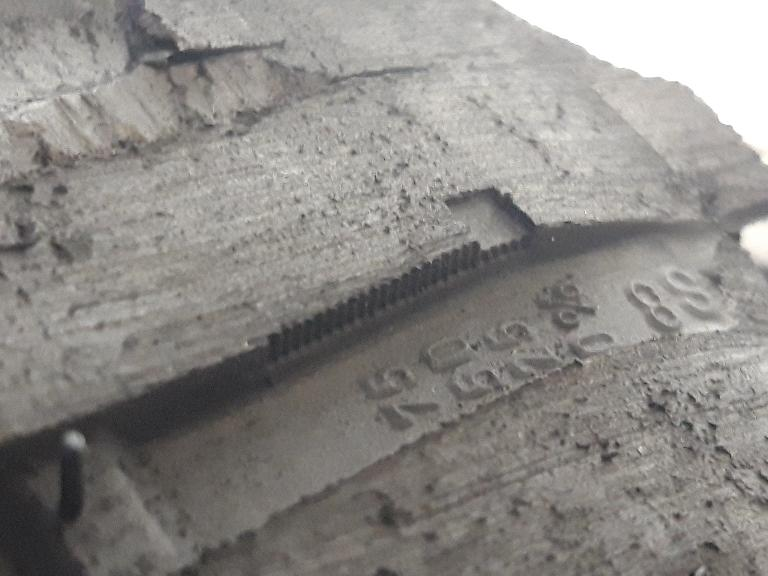temoin:25: (394, 176, 558, 313)
